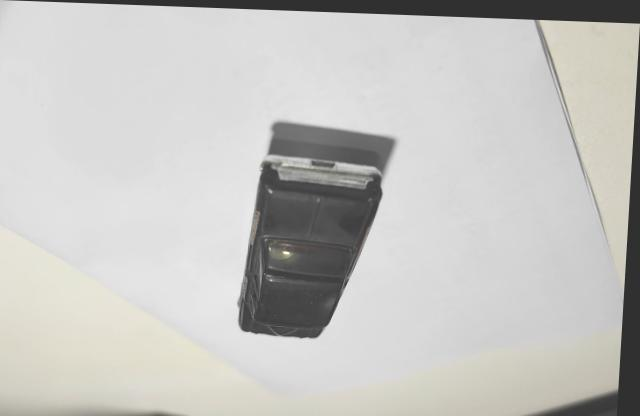01_FORD: (241, 155, 386, 334)
